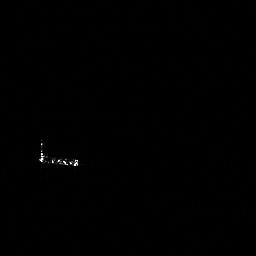ship: (39, 142, 80, 167)
